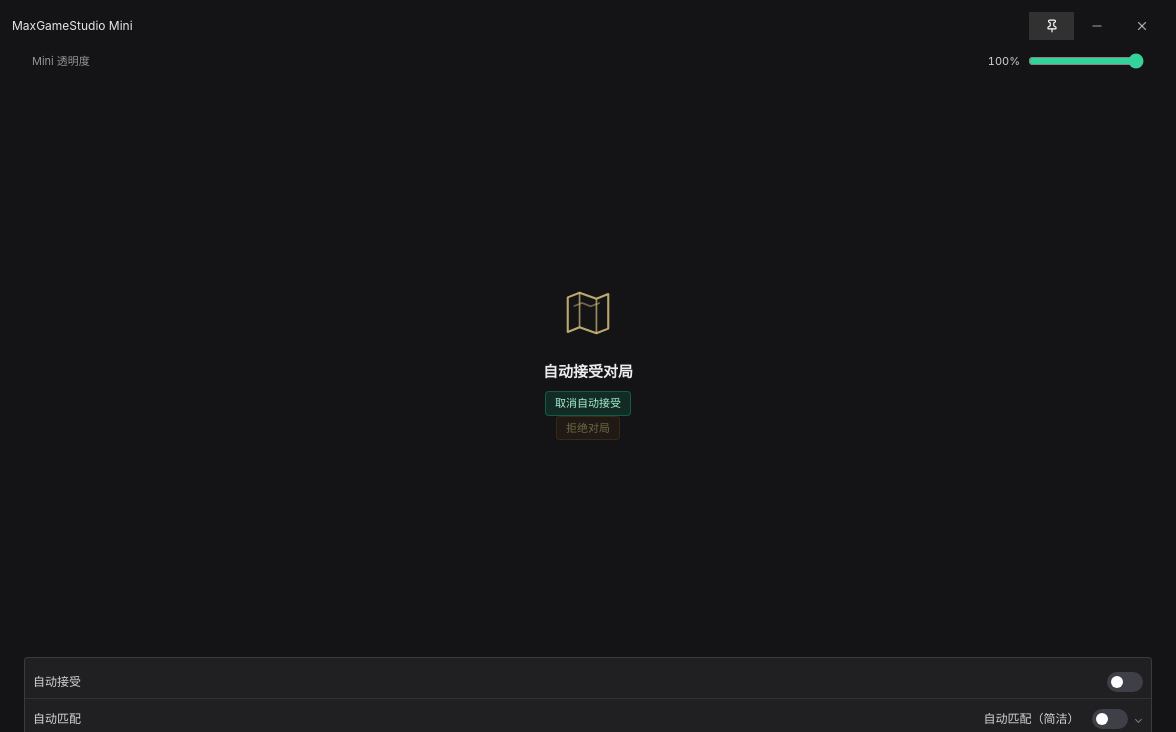
it: LeagueMiniPanel › renders ReadyCheck evidence and keeps decline behind the toolkit gate while allowing local cancellation
Check: the text "自动接受对局" is shown, box left=543, top=361, right=633, bottom=383
Check: the button "拒绝对局" is disabled, box left=556, top=416, right=620, bottom=440
Click the button "取消自动接受" at (588, 404), box left=545, top=391, right=631, bottom=416
(page scrolled)
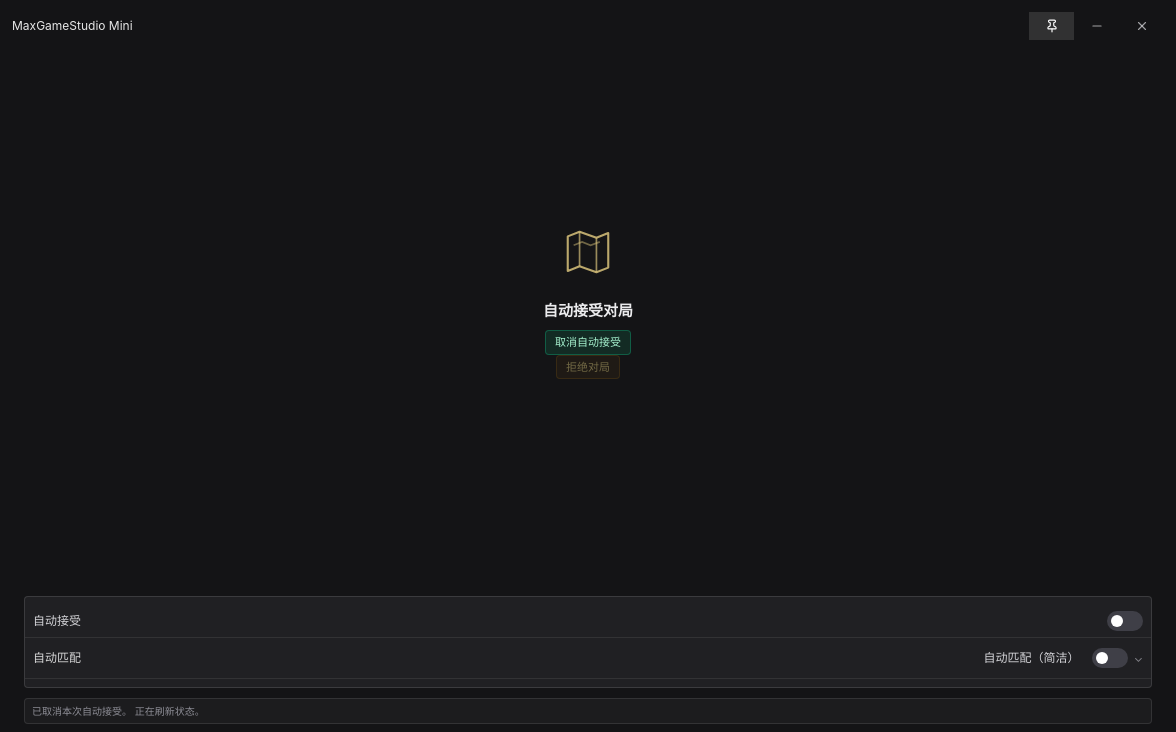
Check: the text "已取消本次自动接受。 正在刷新状态。" is shown, box left=24, top=698, right=1152, bottom=724
